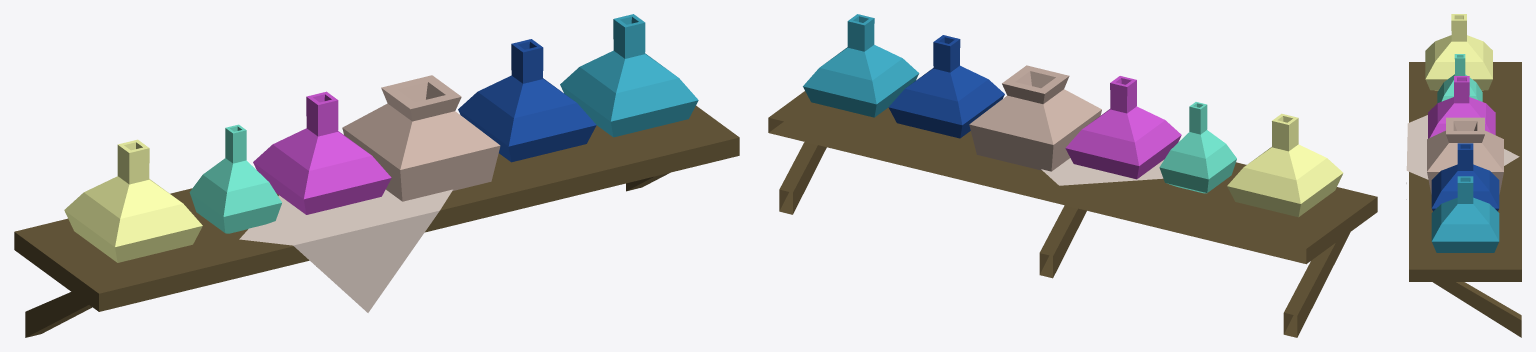
File: Wall Shelf 05.FBX
3 renders of one model, left to right at view 1: azimuth 30°, elevation 25°; view 2: azimuth 150°, elevation 25°; view 3: azimuth 270°, elevation 25°, orthographic. The views are drawn at different scales.
Visible parts, largest first — view 1: Wall Shelf 05; view 2: Wall Shelf 05; view 3: Wall Shelf 05.
Part boxes in pixels (box(x1,y1,x2,y2)): Wall Shelf 05: box(14, 14, 739, 337); Wall Shelf 05: box(768, 14, 1377, 337); Wall Shelf 05: box(1406, 14, 1521, 337).
Bounding box in the file's own units: 349 × 110 × 82.13.
